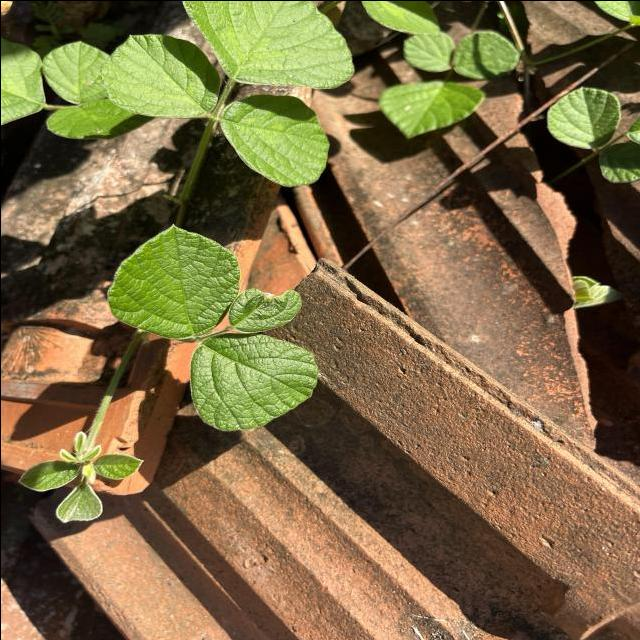Pseudarthria viscida: (98, 0, 355, 188), (104, 220, 320, 432)
